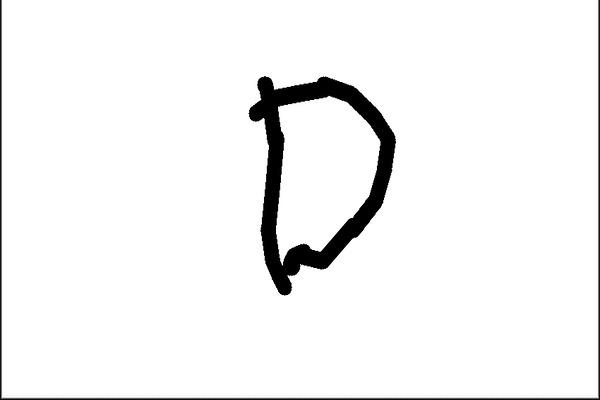D: (239, 69, 404, 299)
